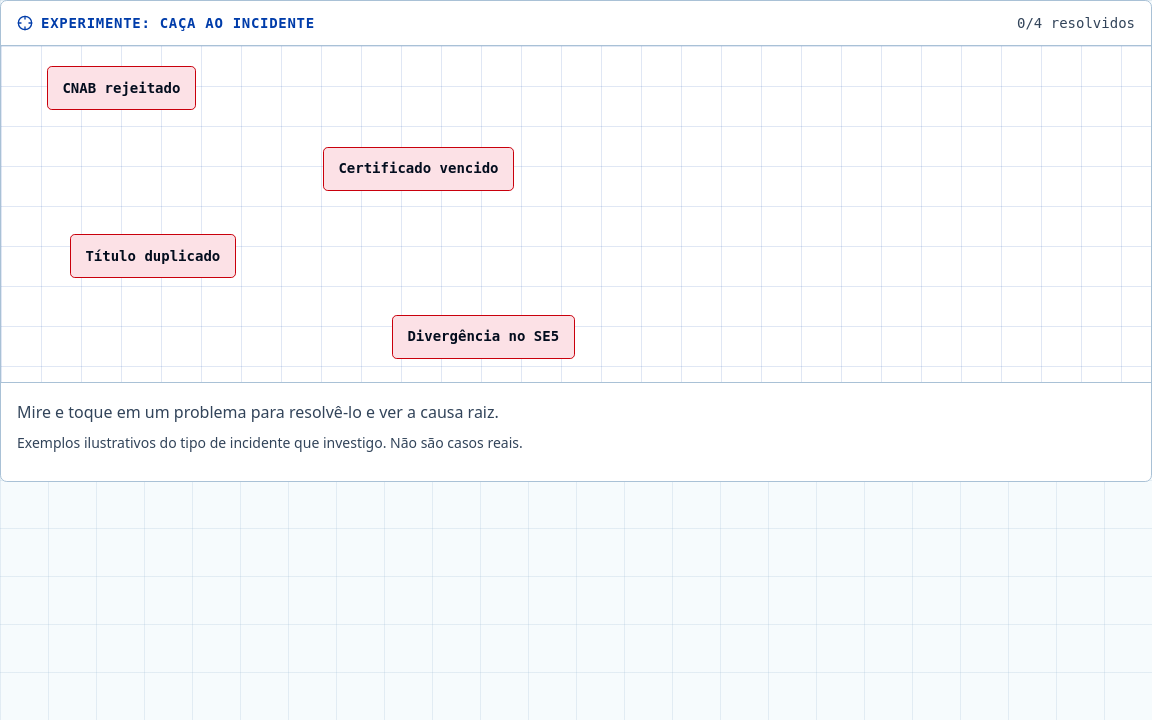
Test: CacaIncidentes › mostra a causa raiz ao resolver um incidente e conta o progresso
This screenshot has width=1152, height=720.
Check: the text "0/4 resolvidos" is shown, box [1017,13,1135,33]
Click the button with aria-label "Resolver: CNAB rejeitado".
click(121, 88)  # box [47,66,196,110]
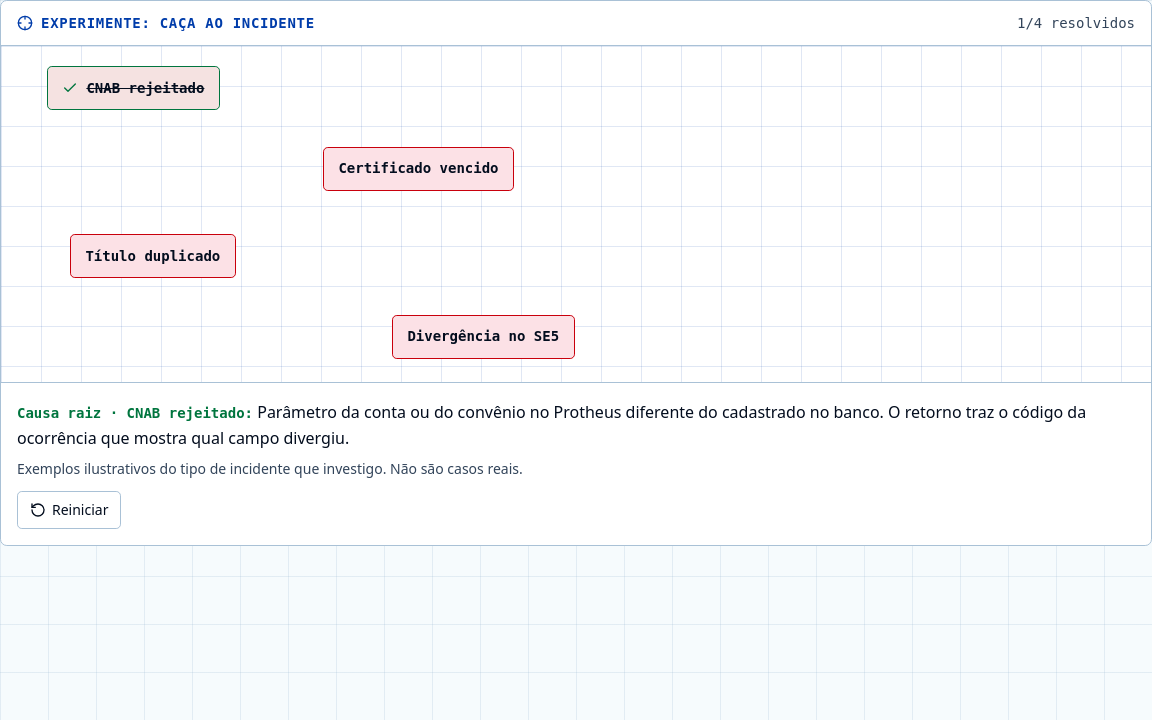
Check: the text "1/4 resolvidos" is shown, box [1017,13,1135,33]
Check: the text "Parâmetro da conta ou do convênio" is shown, box [17,401,1086,449]
